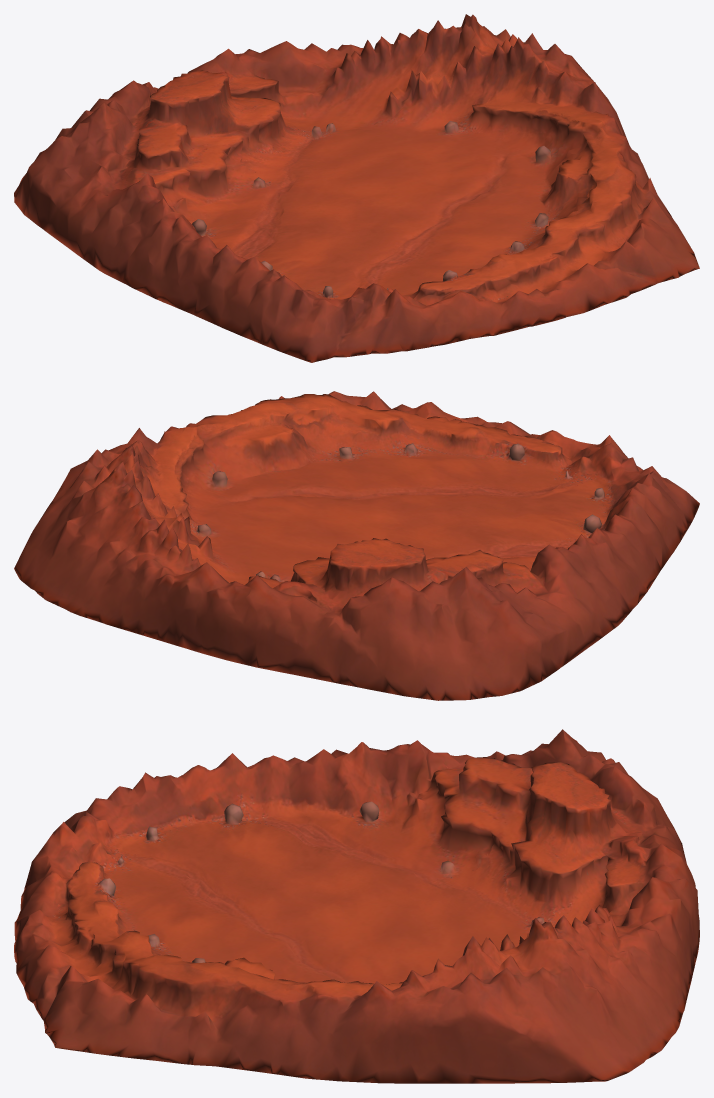
Rendered from world_2.glb.
The picture shows the model from 3 angles, top to bottom: view 1: azimuth 30°, elevation 25°; view 2: azimuth 150°, elevation 25°; view 3: azimuth 270°, elevation 25°; orthographic projection. The views are drawn at different scales.
Visible parts, largest first — view 1: tripo_node_2c740d52-2feb-4ad5-b65b-ed8a39e5bca7; view 2: tripo_node_2c740d52-2feb-4ad5-b65b-ed8a39e5bca7; view 3: tripo_node_2c740d52-2feb-4ad5-b65b-ed8a39e5bca7.
Part boxes in pixels (left/top/right/bottom): tripo_node_2c740d52-2feb-4ad5-b65b-ed8a39e5bca7: left=14, top=14, right=699, bottom=362; tripo_node_2c740d52-2feb-4ad5-b65b-ed8a39e5bca7: left=14, top=391, right=699, bottom=700; tripo_node_2c740d52-2feb-4ad5-b65b-ed8a39e5bca7: left=14, top=729, right=699, bottom=1083.
Size of the model in its own units: 0.9998 by 0.1941 by 0.9999.
1 material, 1 textured.
